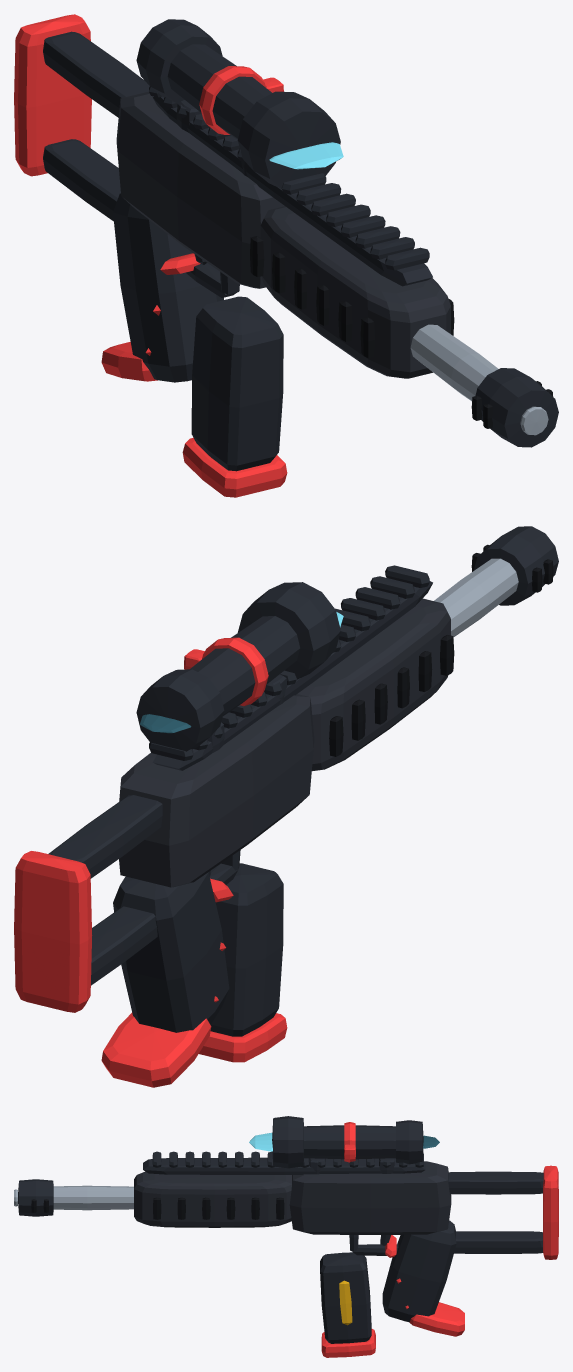
Rendered from g-rifle-4.glb.
3 views of the same model, one above another, from view 1: azimuth 30°, elevation 25°; view 2: azimuth 150°, elevation 25°; view 3: azimuth 270°, elevation 25° (orthographic). The views are drawn at different scales.
Visible parts, largest first — view 1: gun; view 2: gun; view 3: gun.
Boxes of the visible parts, bbox=[...] form: gun: bbox=[14, 14, 558, 497]; gun: bbox=[14, 526, 558, 1087]; gun: bbox=[14, 1116, 558, 1357].
Size of the model in its own units: 0.141 by 0.6246 by 1.33.
